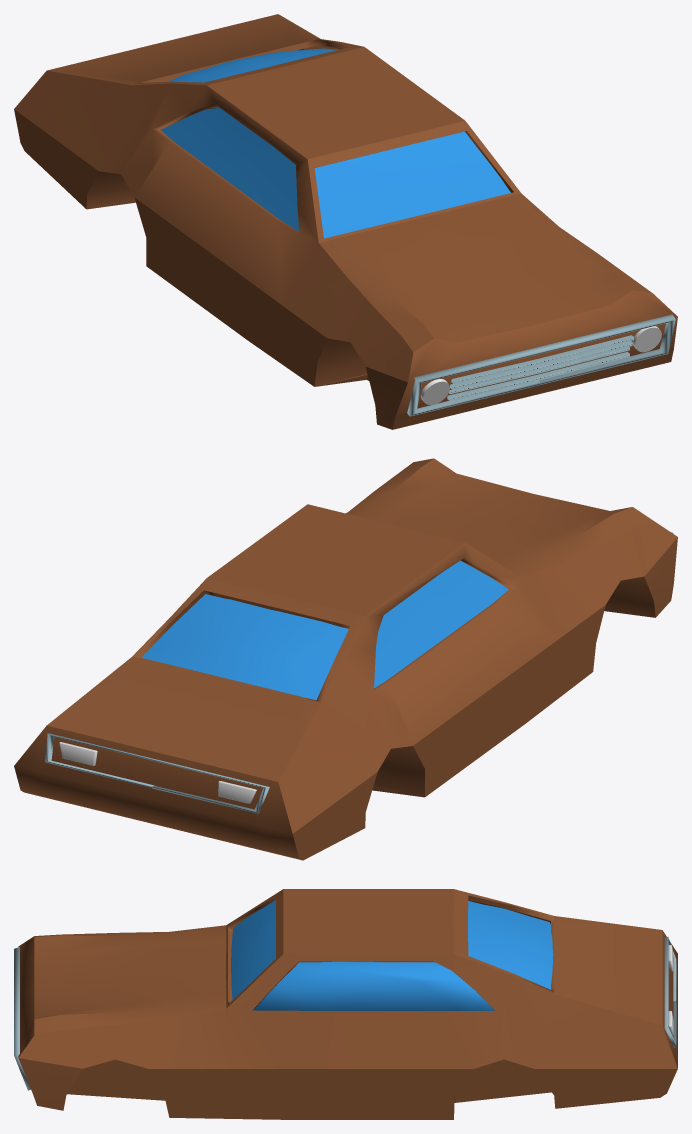
Rendered from Auto_Player_Ventana.fbx.
The picture shows the model from 3 angles, top to bottom: view 1: azimuth 30°, elevation 25°; view 2: azimuth 150°, elevation 25°; view 3: azimuth 270°, elevation 25°; orthographic projection. The views are drawn at different scales.
Parts seen in each view (by area): view 1: Cube, Plane.007, Plane.009, Plane, Plane.010, Plane.002, Plane.003, Plane.004, Plane.001; view 2: Cube, Plane.010, Plane.009, Plane.005, Plane.006; view 3: Cube, Plane.008, Plane.010, Plane.007, Plane.005, Plane.
Part boxes in pixels (x1,y1,x2,y2): Cube: [14, 14, 677, 429]; Plane.007: [314, 131, 510, 238]; Plane.009: [161, 107, 303, 237]; Plane: [407, 314, 675, 416]; Plane.010: [168, 48, 337, 82]; Plane.002: [447, 351, 629, 400]; Plane.003: [451, 335, 633, 383]; Plane.004: [450, 341, 632, 389]; Plane.001: [449, 347, 629, 394]; Cube: [14, 458, 677, 860]; Plane.010: [142, 594, 348, 700]; Plane.009: [374, 560, 515, 688]; Plane.005: [45, 733, 269, 813]; Plane.006: [59, 742, 256, 803]; Cube: [18, 889, 677, 1119]; Plane.008: [254, 962, 494, 1010]; Plane.010: [468, 901, 553, 989]; Plane.007: [231, 900, 275, 999]; Plane.005: [664, 937, 676, 1047]; Plane: [14, 947, 30, 1090].
Bounding box in the file's own units: 157 × 92.43 × 382.
